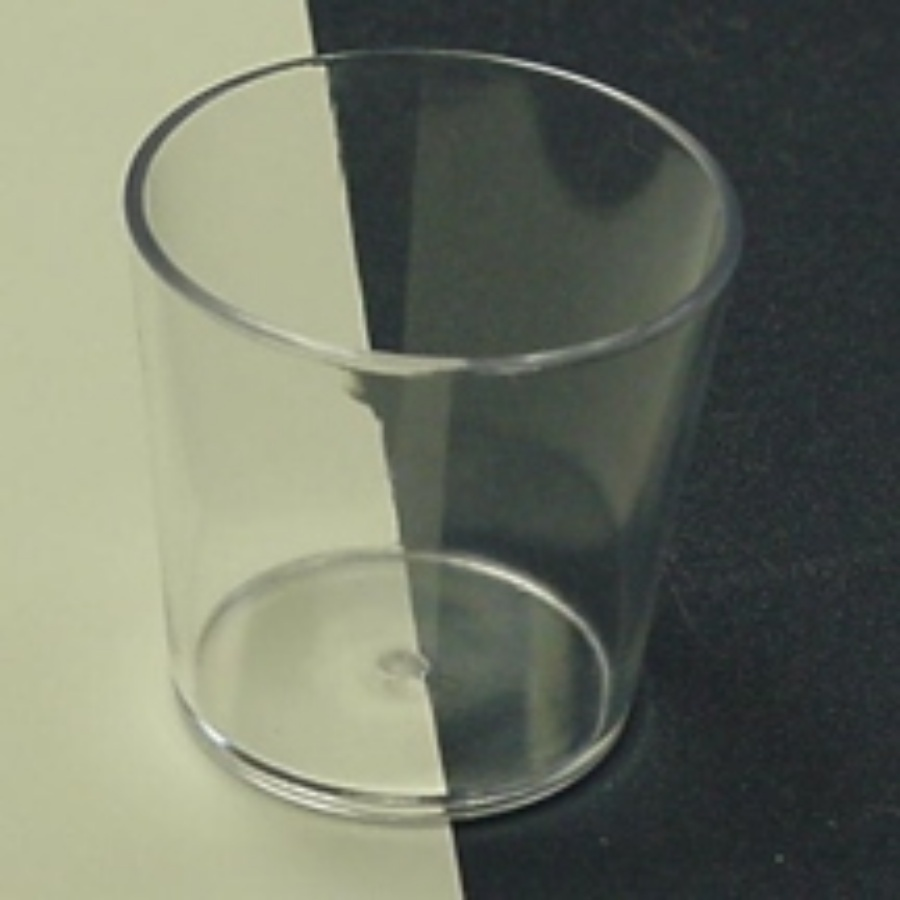whiskey: (126, 74, 705, 811)
